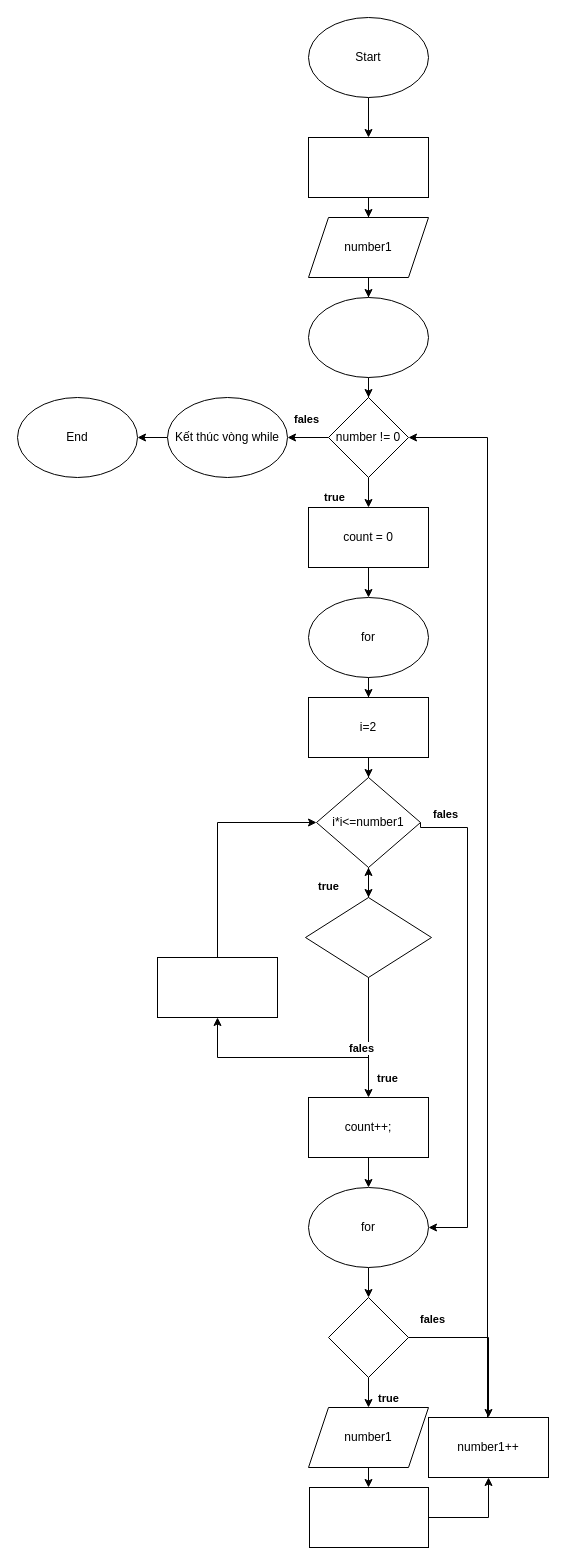
Some shapes in this 566 by 1565 pixel diagram are drawn without their labels. Each missing label, with the box of its shape:
Bắt đầu vòng while: (308, 296, 428, 378)
count == 0: (328, 1296, 408, 1378)
i++: (156, 956, 278, 1018)
number++: (308, 1486, 428, 1548)
number,number1=2: (308, 136, 428, 198)
number1 % i == 0: (304, 896, 432, 978)
